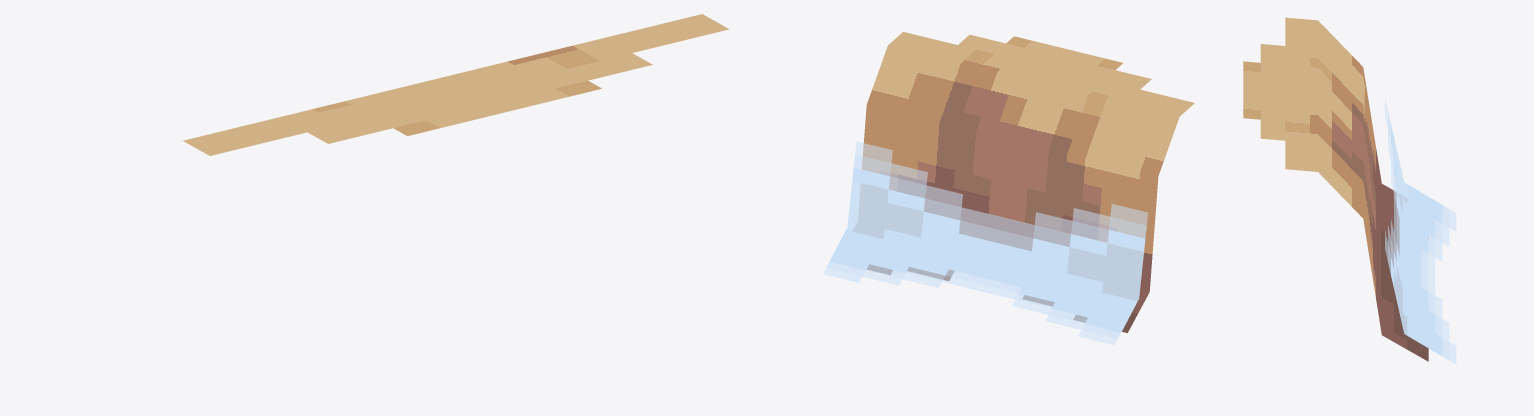
The picture shows the model from 3 angles, left to right: view 1: azimuth 30°, elevation 25°; view 2: azimuth 150°, elevation 25°; view 3: azimuth 270°, elevation 25°; orthographic projection. The views are drawn at different scales.
Size of the model in its own units: 1 by 0.7266 by 0.7695.
Materials: 2 (2 with a texture image).
